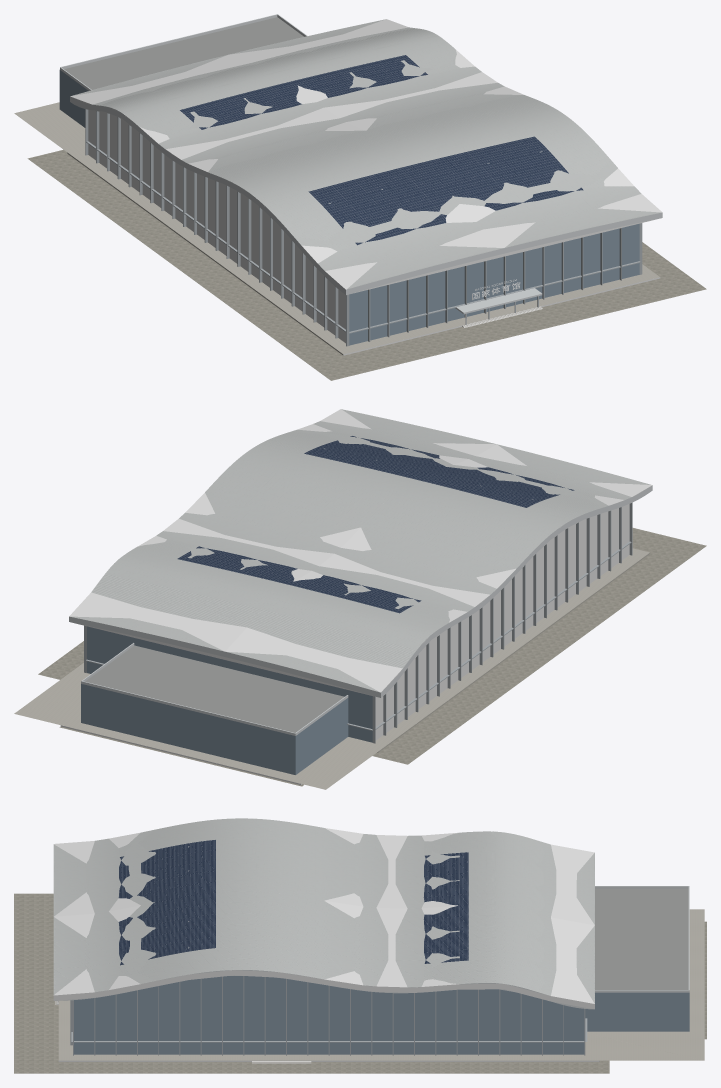
The model's file is nationalindoor.glb.
3 views of the same model, one above another, from view 1: azimuth 30°, elevation 25°; view 2: azimuth 150°, elevation 25°; view 3: azimuth 270°, elevation 25° (orthographic).
Visible parts, largest first — view 1: Hall, Far, Plinth, COL_roof, COL_roof.011, COL_roof.007, COL_hall.003, COL_hall.002, COL_hall.006, COL_hall.001, COL_hall.004, COL_hall.005 (+5 smaller); view 2: Hall, Far, Plinth, COL_roof.011, COL_roof.007, COL_roof, COL_hall.002, COL_hall.001, COL_hall.003, COL_roof.006, COL_hall.005, COL_hall (+4 smaller); view 3: Far, Hall, Plinth, COL_roof.011, COL_roof.007, COL_roof, COL_roof.006, COL_roof.001, COL_plinth, COL_roof.008.
Boxes of the visible parts, <box> form: Hall: <box>60,14,662,346</box>; Far: <box>14,19,660,354</box>; Plinth: <box>27,149,706,380</box>; COL_roof: <box>323,194,662,293</box>; COL_roof.011: <box>70,19,408,104</box>; COL_roof.007: <box>162,72,497,167</box>; COL_hall.003: <box>218,182,248,271</box>; COL_hall.002: <box>251,200,280,295</box>; COL_hall.006: <box>121,119,150,199</box>; COL_hall.001: <box>284,232,313,319</box>; COL_hall.004: <box>186,169,215,247</box>; COL_hall.005: <box>153,146,182,223</box>; Hall: <box>73,409,649,743</box>; Far: <box>14,409,652,789</box>; Plinth: <box>38,528,706,786</box>; COL_roof.011: <box>69,592,402,696</box>; COL_roof.007: <box>163,518,493,614</box>; COL_roof: <box>320,409,652,503</box>; COL_hall.002: <box>536,530,565,622</box>; COL_hall.001: <box>568,515,597,599</box>; COL_hall.003: <box>504,557,533,646</box>; COL_roof.006: <box>185,493,515,596</box>; COL_hall.005: <box>440,617,468,693</box>; COL_hall: <box>600,504,629,575</box>; Far: <box>53,818,704,1060</box>; Hall: <box>53,818,689,1055</box>; Plinth: <box>14,893,706,1073</box>; COL_roof.011: <box>549,844,594,1009</box>; COL_roof.007: <box>369,835,414,992</box>; COL_roof: <box>53,841,98,1000</box>; COL_roof.006: <box>324,828,369,991</box>; COL_roof.001: <box>98,832,143,997</box>; COL_plinth: <box>58,1060,599,1061</box>; COL_roof.008: <box>414,832,459,992</box>.
Size of the model in its own units: 172 by 42.4 by 280.
13 materials, 5 textured.
